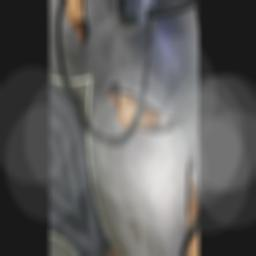Swallow: (101, 26, 186, 191)
